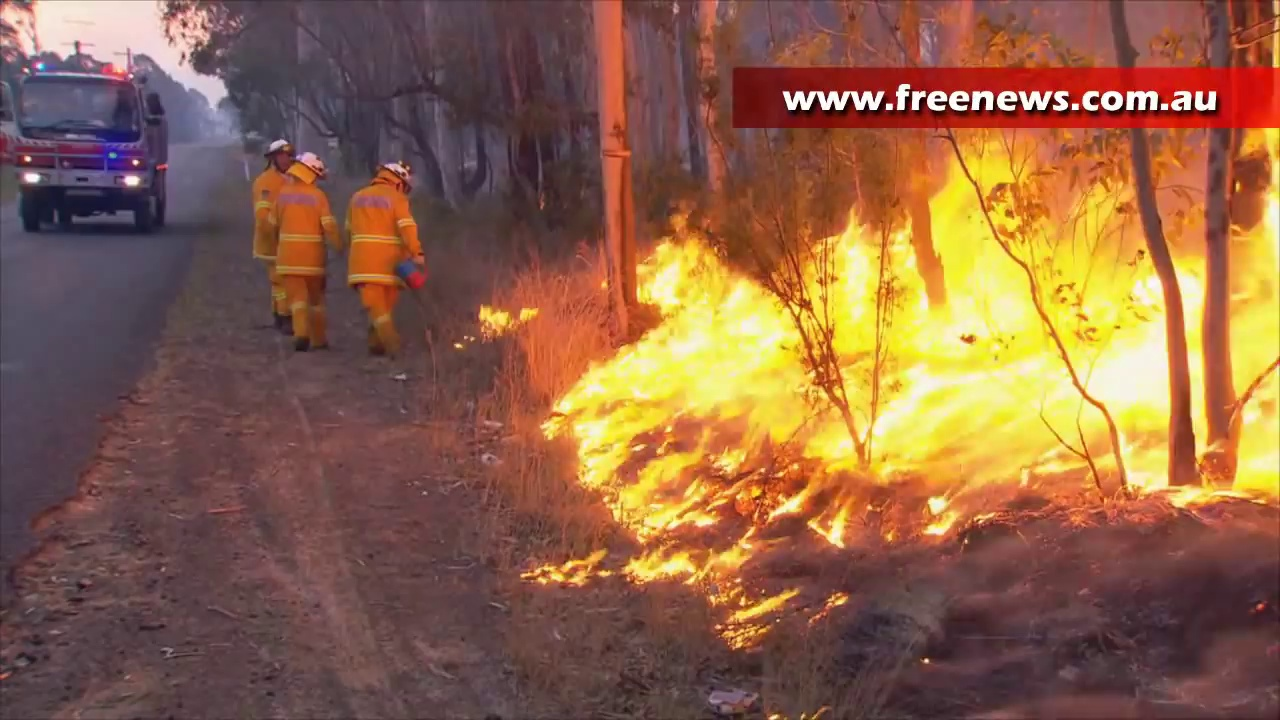fire: (555, 134, 1161, 599), (1232, 134, 1280, 502), (477, 304, 503, 331), (519, 308, 537, 322)
